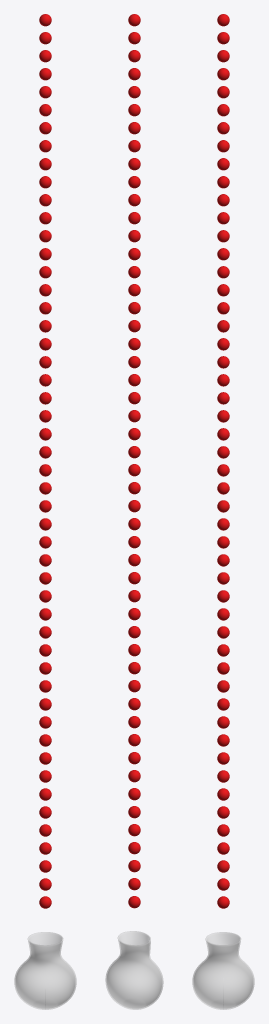
The model's file is Vase and Bricks.glb.
The picture shows the model from 3 angles, left to right: view 1: azimuth 90°, elevation 25°; view 2: azimuth 210°, elevation 25°; view 3: azimuth 270°, elevation 25°; orthographic projection.
Parts seen in each view (by area): view 1: Cylinder; view 2: Cylinder; view 3: Cylinder.
Part boxes in pixels (x1,y1,x2,y2): Cylinder: (14,932,76,1009); Cylinder: (105,931,163,1009); Cylinder: (192,932,254,1009).
Size of what is drawn, in the model's own units: 1.82 by 35.11 by 2.01.
